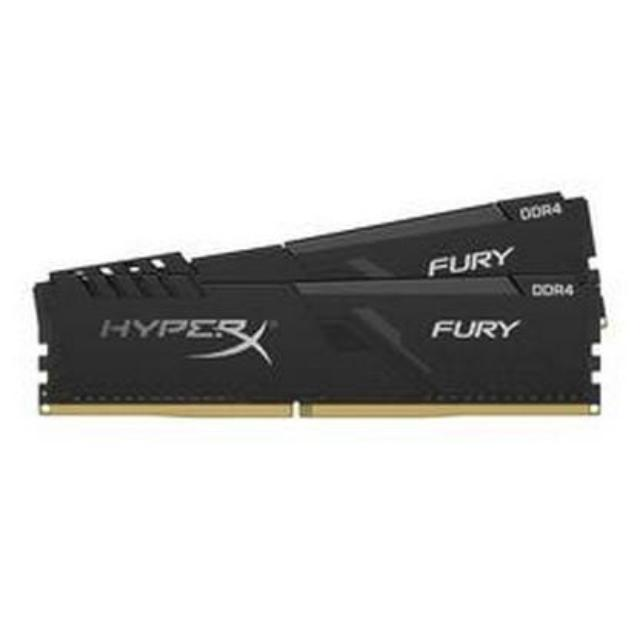RAM: (31, 188, 611, 434)
